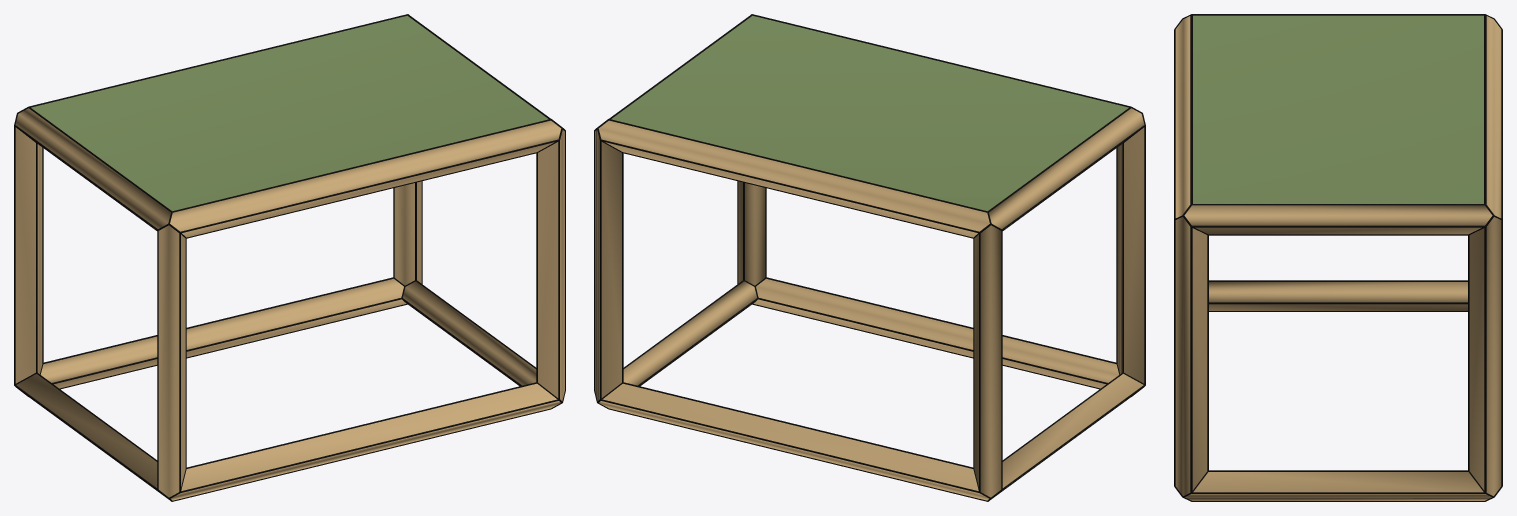
The model's file is 010-coffre.glb.
The picture shows the model from 3 angles, left to right: view 1: azimuth 30°, elevation 25°; view 2: azimuth 150°, elevation 25°; view 3: azimuth 270°, elevation 25°; orthographic projection. The views are drawn at different scales.
Visible parts, largest first — view 1: panneau-dessus_exterieur, arete-X2, arete-X0, arete-X1, arete-Z0, arete-Z2, arete-Z1, arete-Y2, arete-Y0, arete-Y1, arete-Z3, arete-wire-X0 (+9 smaller); view 2: panneau-dessus_exterieur, arete-X3, arete-X1, arete-X0, arete-Z2, arete-Z0, arete-Z3, arete-Y2, arete-Y0, arete-Y1, arete-Z1, arete-wire-X1 (+9 smaller); view 3: panneau-dessus_exterieur, arete-Y3, arete-Z1, arete-Z3, arete-Y1, arete-Y0, arete-X2, arete-X3, arete-wire-Y3, arete-wire-Z1, arete-wire-Z3, arete-wire-Y0 (+4 smaller).
Part boxes in pixels (x1,y1,x2,y2): panneau-dessus_exterieur: (31, 15, 548, 211); arete-X2: (170, 120, 561, 237); arete-X0: (170, 383, 560, 500); arete-X1: (40, 278, 406, 388); arete-Z0: (158, 225, 185, 497); arete-Z2: (15, 127, 42, 383); arete-Z1: (538, 130, 564, 400); arete-Y2: (15, 108, 170, 228); arete-Y0: (16, 374, 157, 487); arete-Y1: (403, 281, 536, 385); arete-Z3: (394, 181, 421, 285); arete-wire-X0: (168, 382, 562, 501); panneau-dessus_exterieur: (611, 15, 1128, 211); arete-X3: (598, 120, 989, 237); arete-X1: (599, 383, 989, 500); arete-X0: (753, 278, 1119, 388); arete-Z2: (974, 225, 1001, 497); arete-Z0: (1117, 127, 1144, 383); arete-Z3: (595, 130, 621, 400); arete-Y2: (989, 108, 1144, 228); arete-Y0: (1002, 374, 1143, 487); arete-Y1: (623, 281, 756, 385); arete-Z1: (738, 181, 765, 285); arete-wire-X1: (597, 382, 990, 501); panneau-dessus_exterieur: (1193, 15, 1483, 203); arete-Y3: (1184, 205, 1492, 234); arete-Z1: (1175, 217, 1207, 495); arete-Z3: (1469, 217, 1501, 495); arete-Y1: (1185, 472, 1491, 500); arete-Y0: (1209, 282, 1467, 310); arete-X2: (1175, 16, 1190, 217); arete-X3: (1486, 16, 1501, 217); arete-wire-Y3: (1191, 204, 1493, 235); arete-wire-Z1: (1174, 215, 1208, 493); arete-wire-Z3: (1468, 220, 1502, 493); arete-wire-Y0: (1209, 280, 1467, 311).
Bounding box in the file's own units: 0.6238 × 0.4238 × 0.4238.
